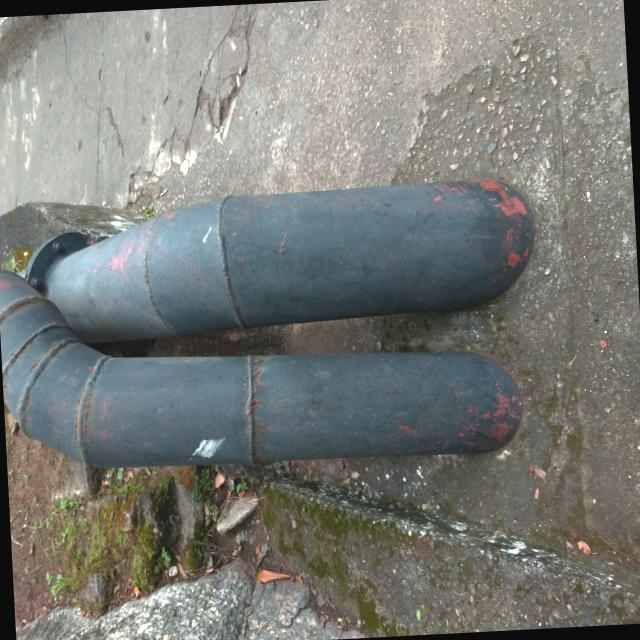gas: (0, 270, 490, 465), (75, 177, 503, 346)
